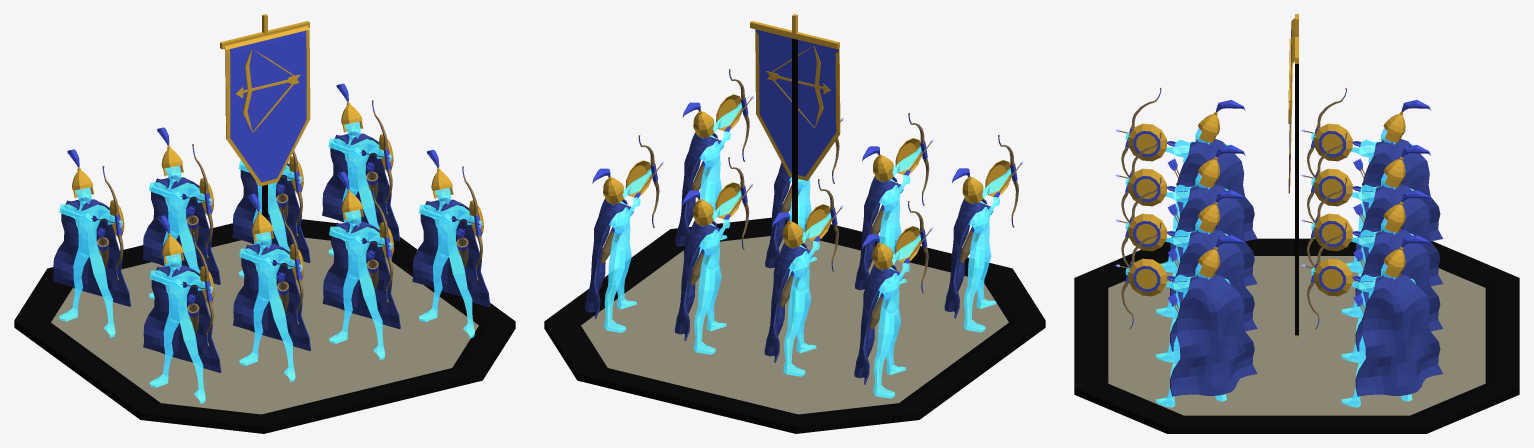
The model's file is blue archer unit merged.fbx.
The picture shows the model from 3 angles, left to right: view 1: azimuth 30°, elevation 25°; view 2: azimuth 150°, elevation 25°; view 3: azimuth 270°, elevation 25°; orthographic projection. The views are drawn at different scales.
Parts seen in each view (by area): view 1: Cube; view 2: Cube; view 3: Cube.
Part boxes in pixels (x1=…): Cube: x1=14, y1=14, x2=515, y2=433; Cube: x1=544, y1=14, x2=1045, y2=433; Cube: x1=1074, y1=14, x2=1519, y2=433.
Size of the model in its own units: 500 by 398 by 500.
